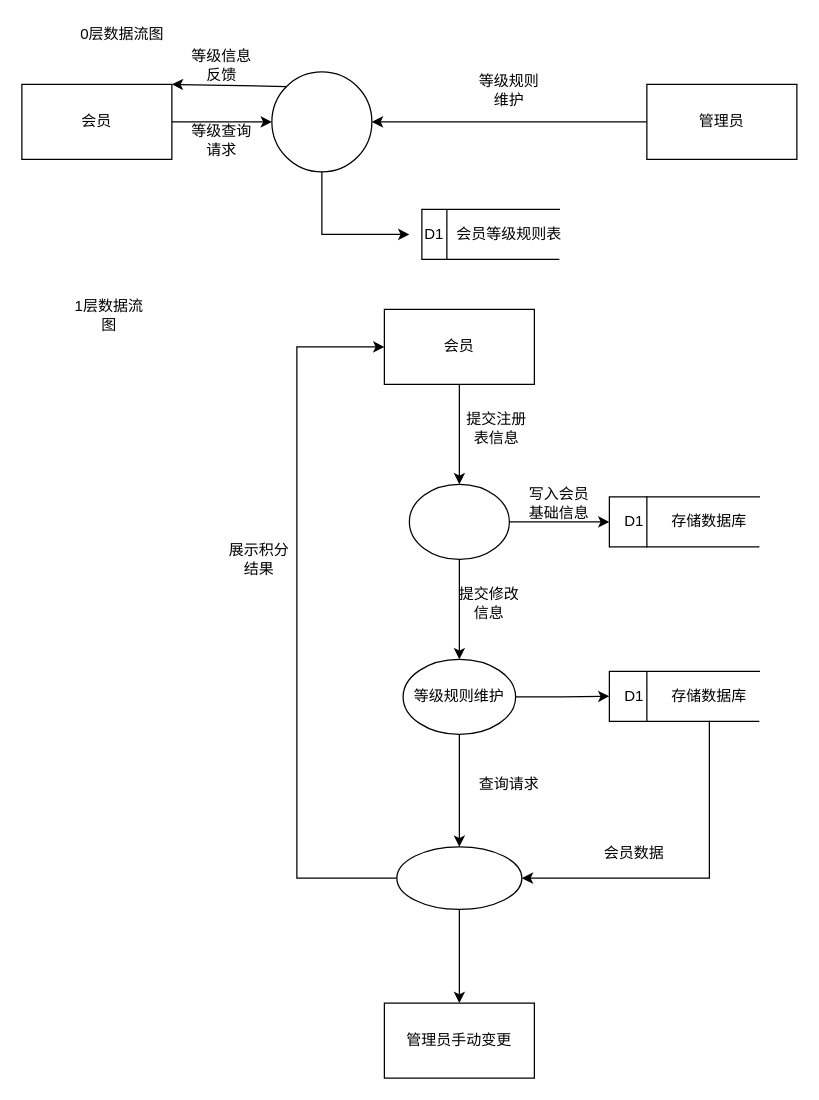
Image size: 819x1100. Some labels were removed from this diagram. The shapes that lost their labels are listed below. From the top down, each one's centre as x and y in pixels, then its label:
At (x=321, y=121): "会员等级管理".
At (x=458, y=521): "会员等级查询".
At (x=459, y=877): "会员等级自动变更".
